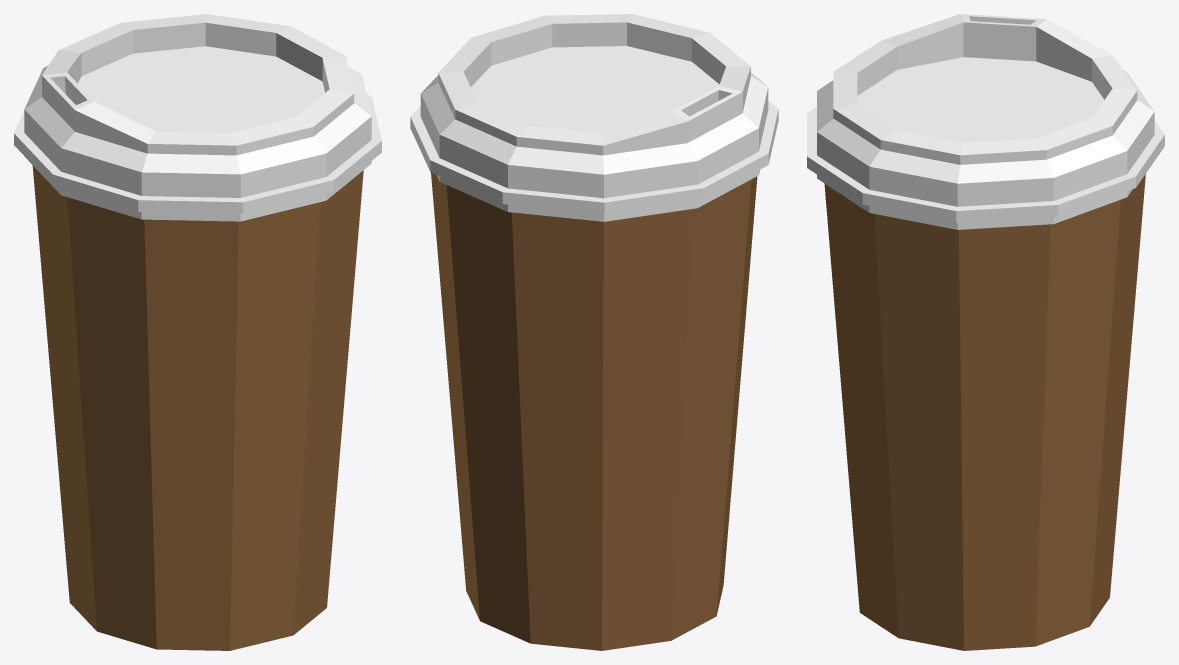
Rendered from c_cup.glb.
3 renders of one model, left to right at view 1: azimuth 30°, elevation 25°; view 2: azimuth 150°, elevation 25°; view 3: azimuth 270°, elevation 25°, orthographic.
Parts seen in each view (by area): view 1: Object_3, Object_4, Object_5; view 2: Object_3, Object_4, Object_5; view 3: Object_3, Object_4, Object_5.
Boxes of the visible parts, x1,y1,x2,y2 form: Object_3: (32,165,363,650); Object_4: (24,14,371,221); Object_5: (14,94,381,213); Object_3: (431,172,757,650); Object_4: (420,14,768,221); Object_5: (410,101,778,214); Object_3: (824,174,1145,650); Object_4: (817,14,1154,229); Object_5: (807,107,1164,222).
Bounding box in the file's own units: 2.83 × 4.5 × 2.8.
